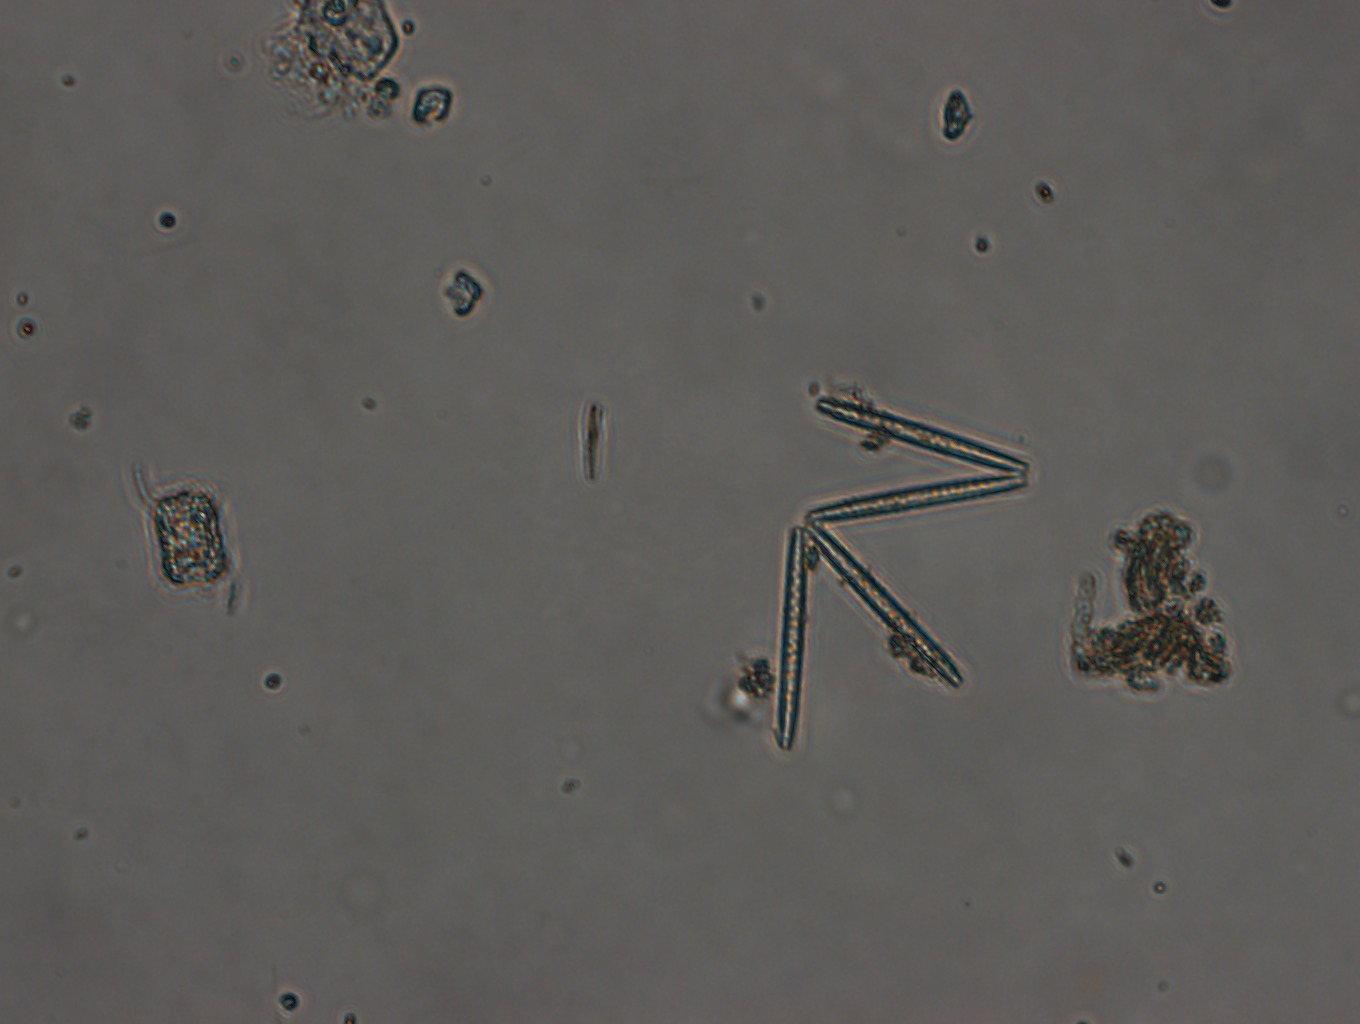thalassionema nitzschioides: (769, 392, 1036, 750)
